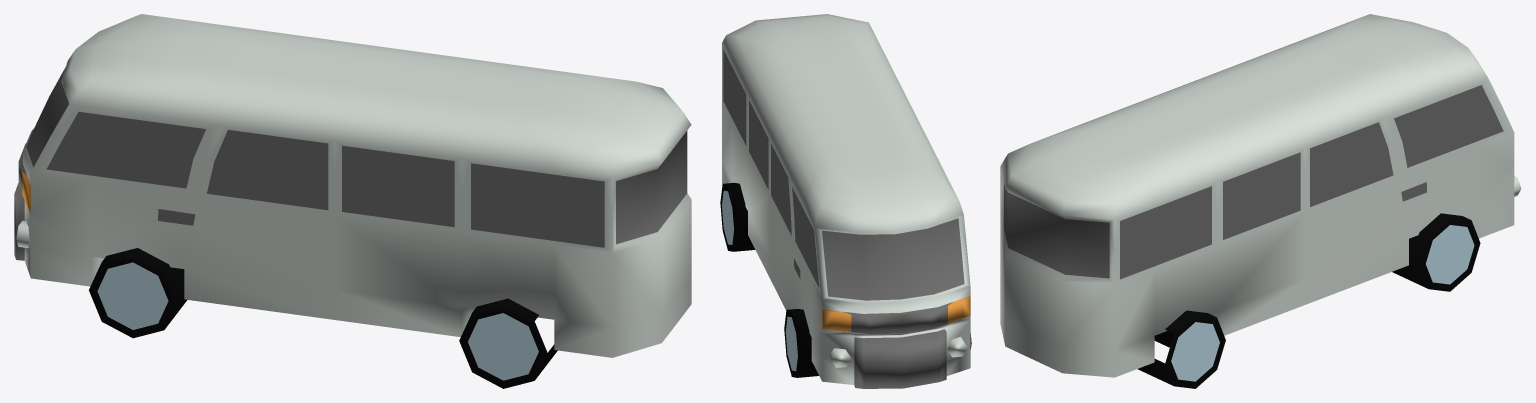
Rendered from KOMBI.dae.
3 views of the same model, side by side, from view 1: azimuth 30°, elevation 25°; view 2: azimuth 150°, elevation 25°; view 3: azimuth 270°, elevation 25° (orthographic). The views are drawn at different scales.
Parts seen in each view (by area): view 1: Cube.235; view 2: Cube.235; view 3: Cube.235.
Boxes of the visible parts, x1,y1,x2,y2 form: Cube.235: (14, 14, 691, 388); Cube.235: (720, 14, 971, 388); Cube.235: (1000, 14, 1521, 388).
Size of the model in its own units: 13.15 by 13.9 by 6.43.
